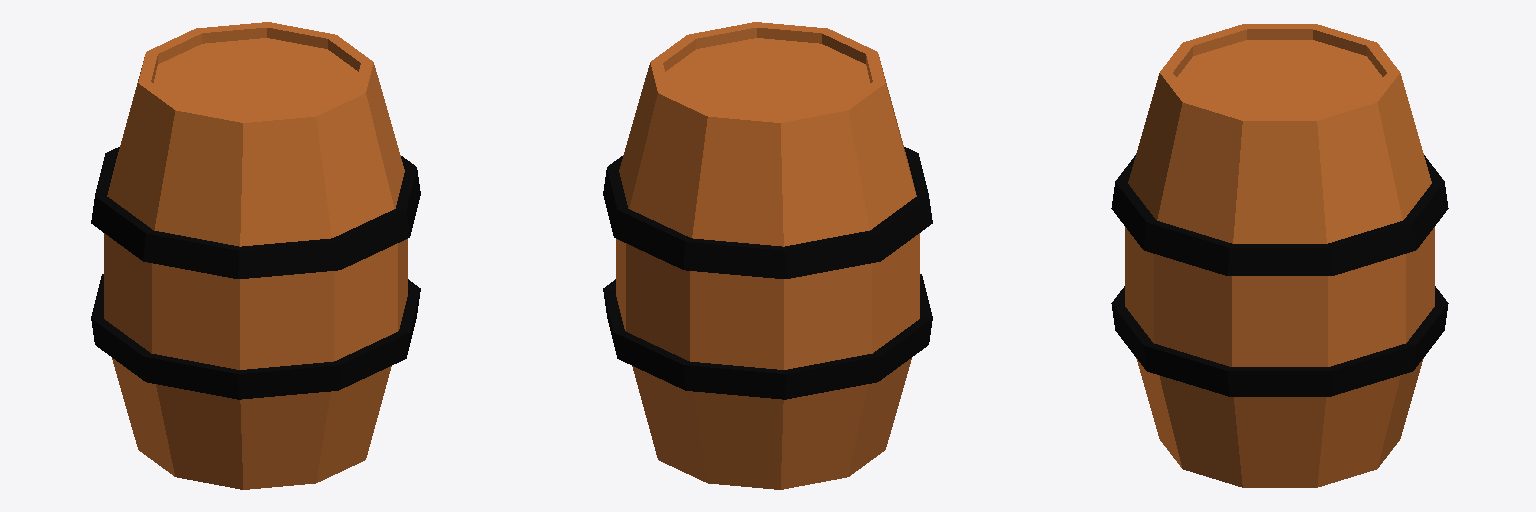
Rendered from barrel.obj.
3 views of the same model, side by side, from view 1: azimuth 30°, elevation 25°; view 2: azimuth 150°, elevation 25°; view 3: azimuth 270°, elevation 25° (orthographic).
Visible parts, largest first — view 1: barrel; view 2: barrel; view 3: barrel.
Boxes of the visible parts, x1,y1,x2,y2 form: barrel: [91, 22, 420, 489]; barrel: [603, 22, 932, 489]; barrel: [1111, 24, 1448, 487].
Bounding box in the file's own units: 0.8716 × 1.1 × 0.9165.